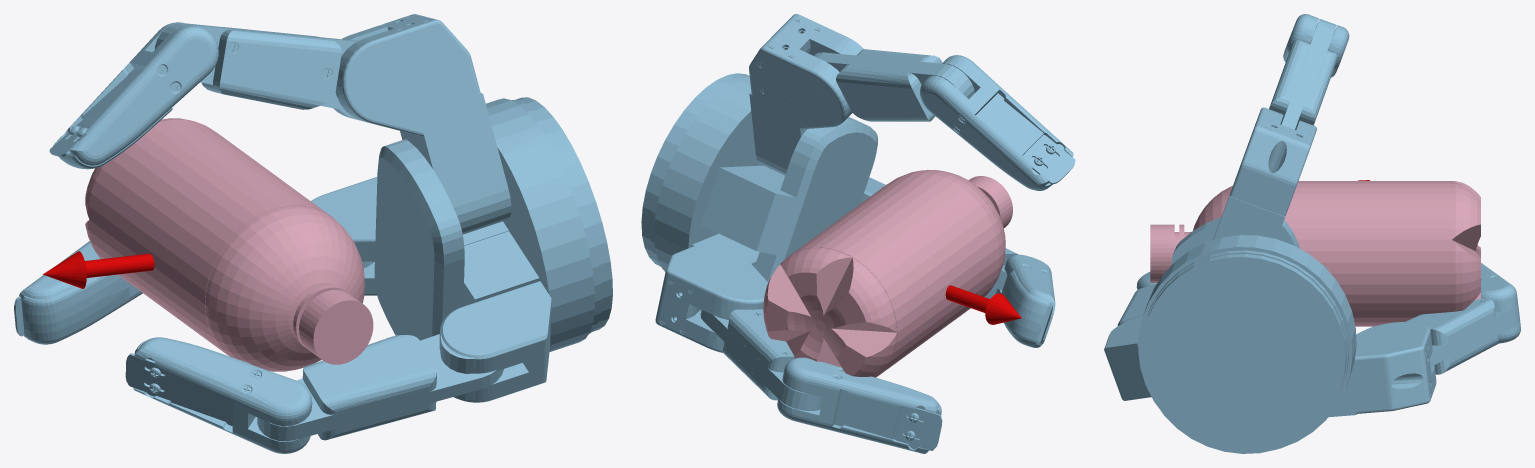
3 views of the same model, side by side, from view 1: azimuth 30°, elevation 25°; view 2: azimuth 150°, elevation 25°; view 3: azimuth 270°, elevation 25° (orthographic). The views are drawn at different scales.
Visible parts, largest first — view 1: world, water_bottle.stl; view 2: world, water_bottle.stl; view 3: world, water_bottle.stl.
Boxes of the visible parts, x1,y1,x2,y2 form: world: (14,14,612,453); water_bottle.stl: (85,118,373,371); world: (641,14,1075,453); water_bottle.stl: (763,170,1012,377); world: (1104,14,1520,453); water_bottle.stl: (1150,181,1480,326).
Bounding box in the file's own units: 0.1935 × 0.1445 × 0.1722.
